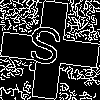S: (25, 25, 64, 75)
